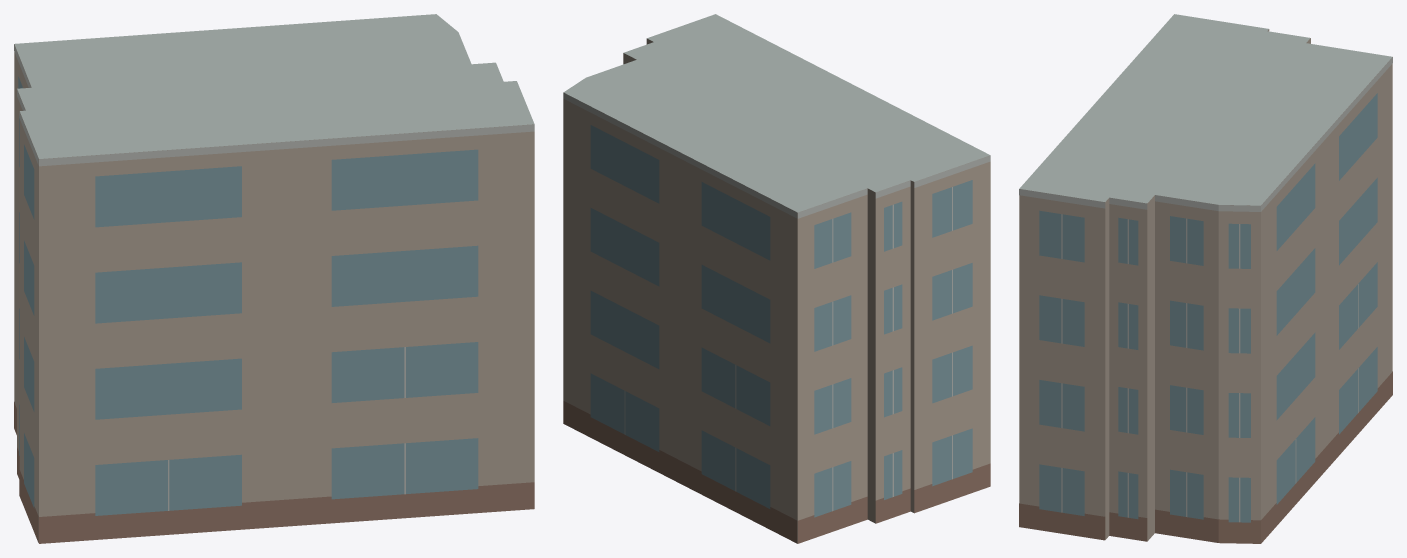
The model's file is survey-upis-32660393.glb.
3 views of the same model, side by side, from view 1: azimuth 30°, elevation 25°; view 2: azimuth 150°, elevation 25°; view 3: azimuth 270°, elevation 25° (orthographic). The views are drawn at different scales.
Parts seen in each view (by area): view 1: survey-upis-32660393.tmp; view 2: survey-upis-32660393.tmp; view 3: survey-upis-32660393.tmp.
Boxes of the visible parts, x1,y1,x2,y2 form: survey-upis-32660393.tmp: (14, 14, 534, 543); survey-upis-32660393.tmp: (563, 14, 990, 543); survey-upis-32660393.tmp: (1019, 14, 1392, 543).
Bounding box in the file's own units: 15.71 × 12.92 × 12.94.
